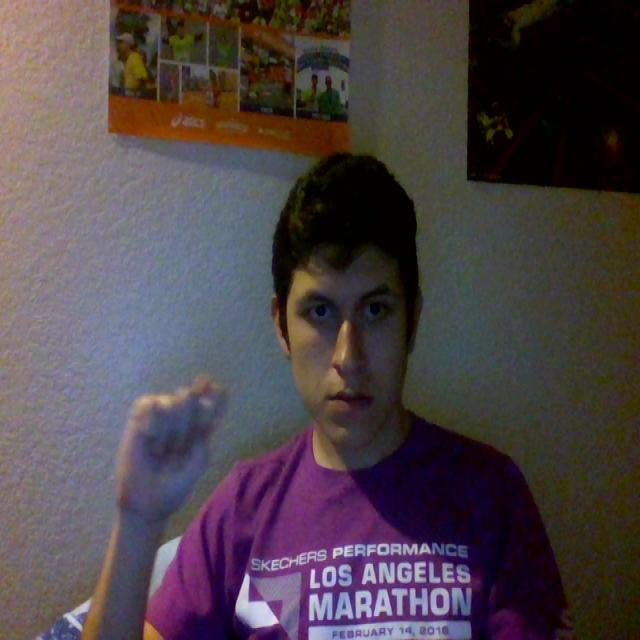T: (93, 351, 238, 559)
